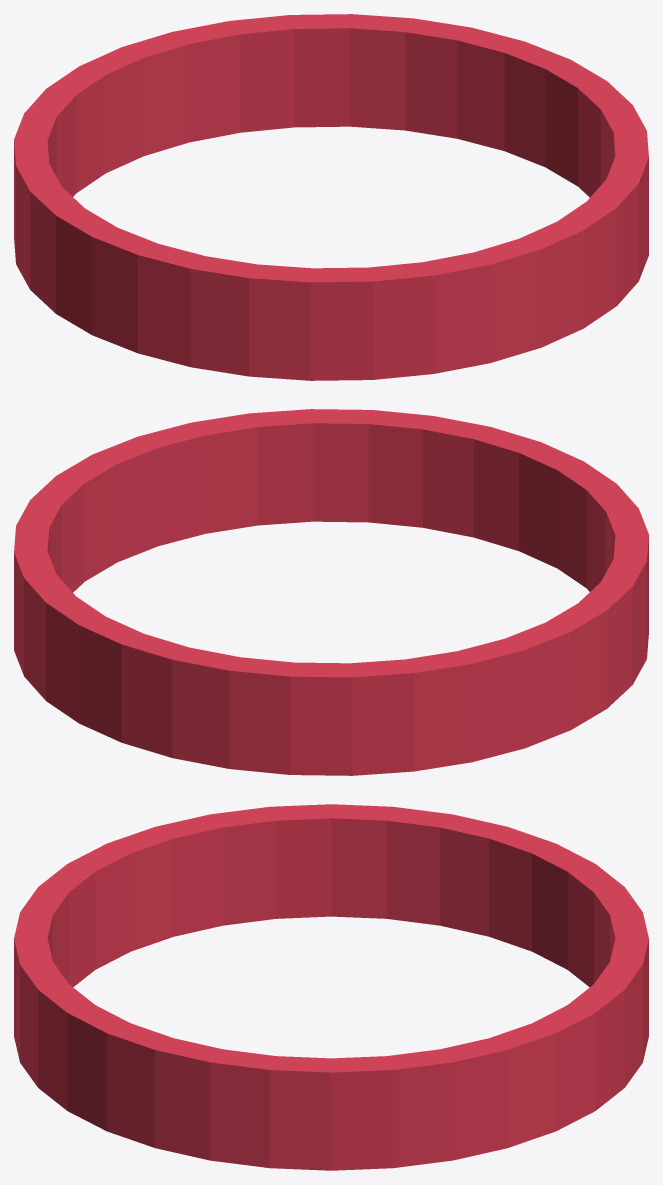
The model's file is HeadBand.fbx.
3 renders of one model, top to bottom at view 1: azimuth 30°, elevation 25°; view 2: azimuth 150°, elevation 25°; view 3: azimuth 270°, elevation 25°, orthographic.
Visible parts, largest first — view 1: Head band; view 2: Head band; view 3: Head band.
Part boxes in pixels (x1,y1,x2,y2): Head band: [14, 14, 648, 380]; Head band: [14, 409, 648, 775]; Head band: [14, 804, 648, 1170].
Size of the model in its own units: 22.48 by 3.83 by 22.48.
